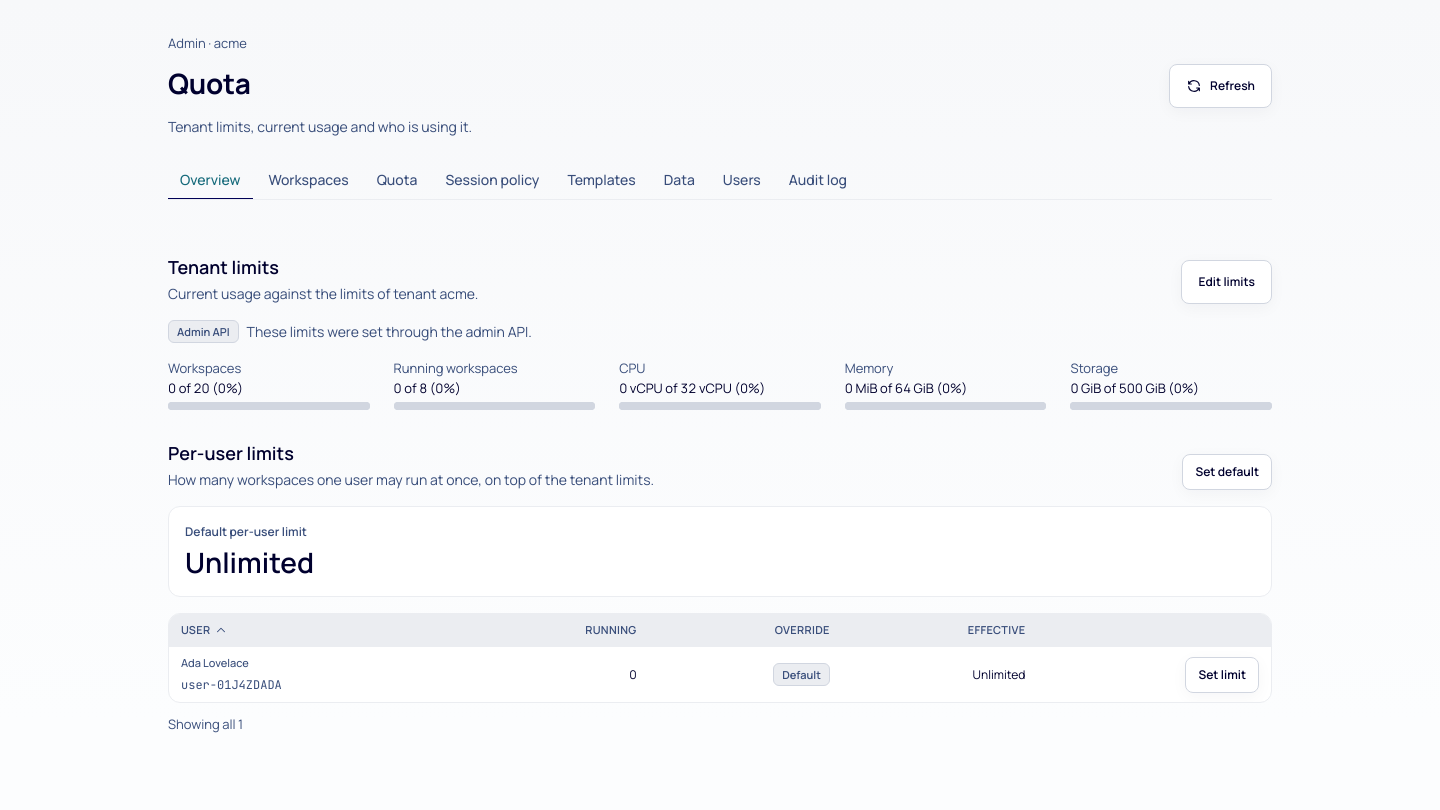
Test case: quota: per-user limits › a stale default ETag answers 412: the dialog explains and shows the current value
Check: the element "Default per-user limit" shows "Unlimited", box [185,543,314,581]
Click the button "Set default".
click(1227, 472)  # box [1182,454,1272,490]
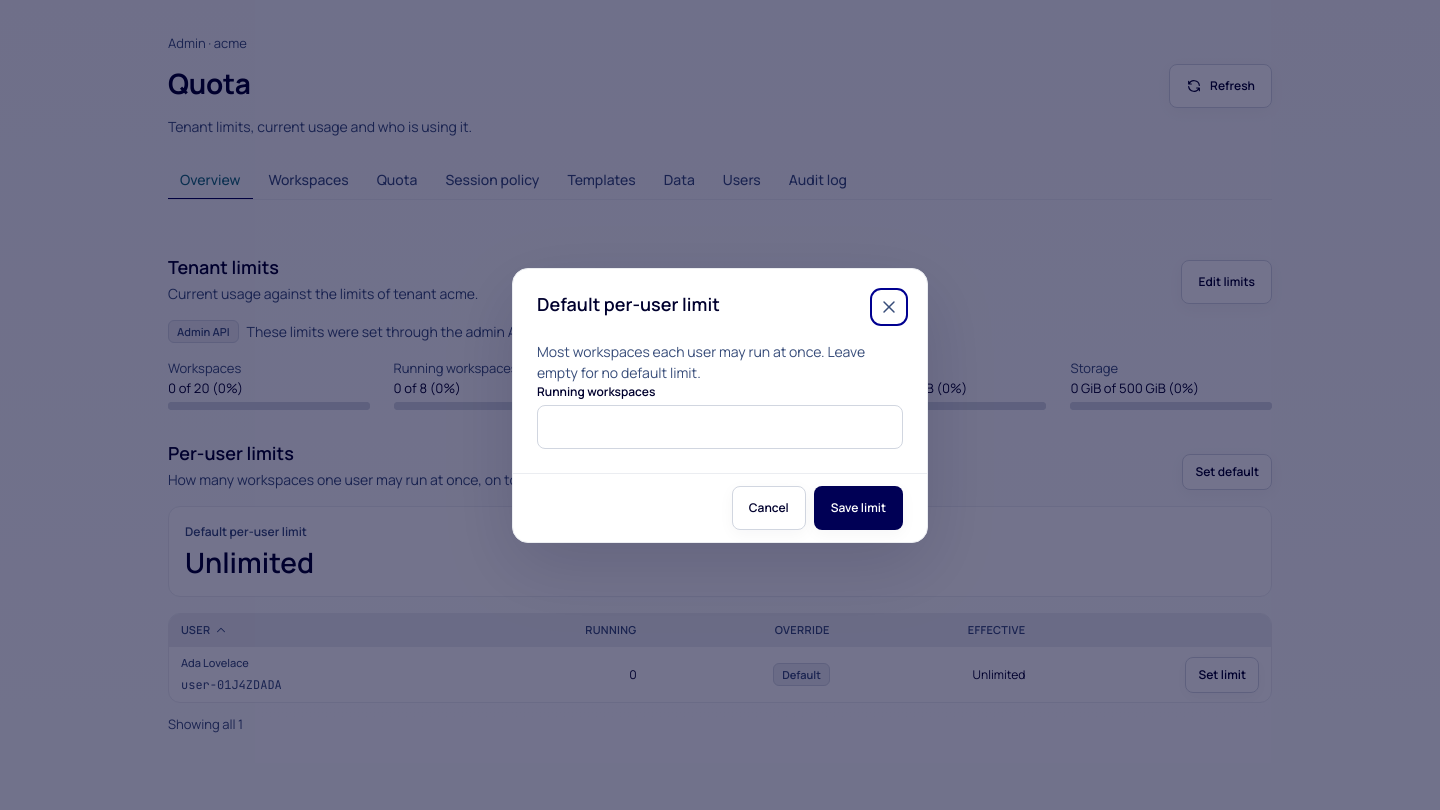
Type "3" into the number field labelled "Running workspaces".
click(720, 426); type("3")  # box [537,404,903,448]
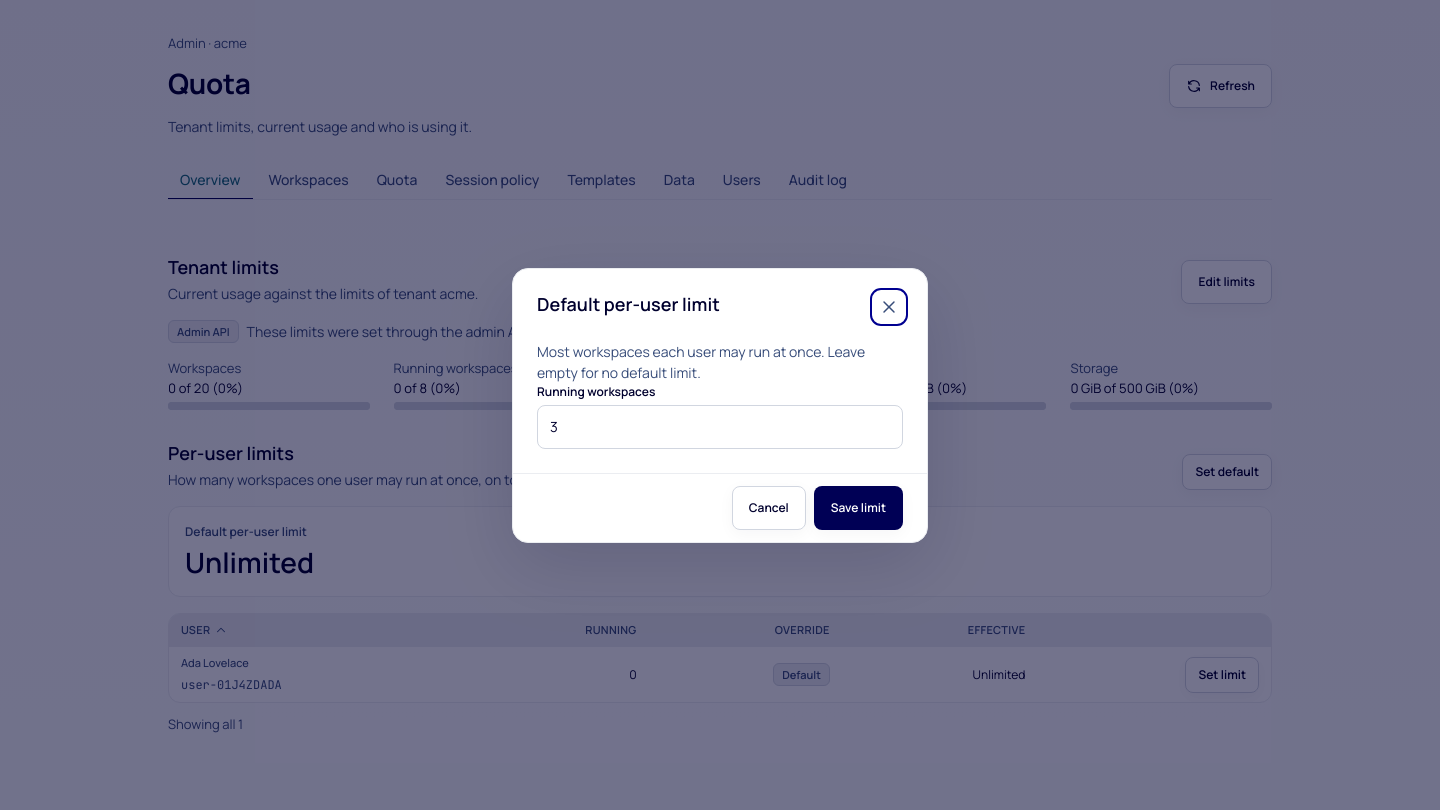
Click the button "Save limit".
click(858, 508)  # box [814,486,903,530]
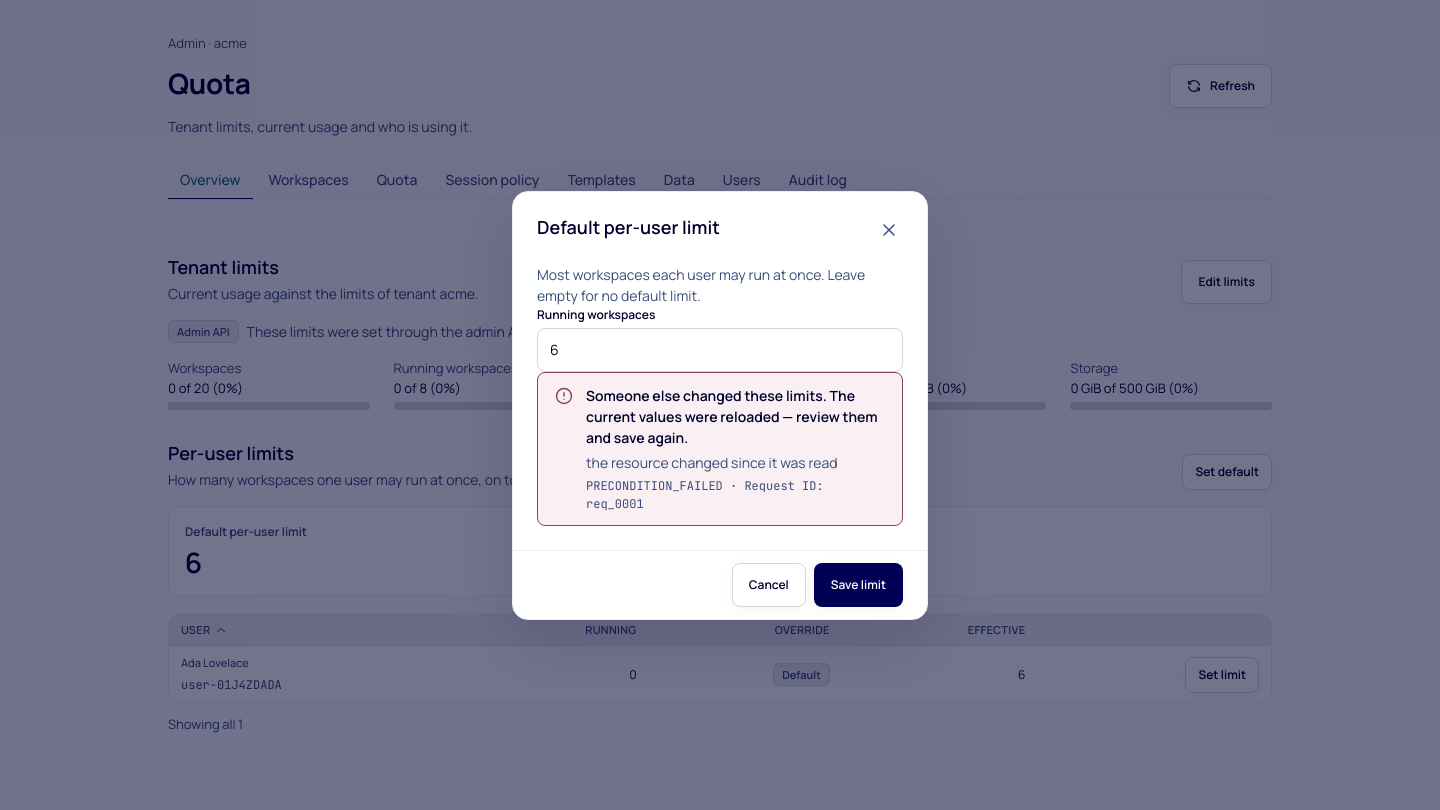
Check: the text "Someone else changed these limits" is shown, box [586,386,878,446]
Check: the number field labelled "Running workspaces" holds "6", box [537,328,903,372]
Check: the element "Default per-user limit" shows "6", box [185,543,202,581]
